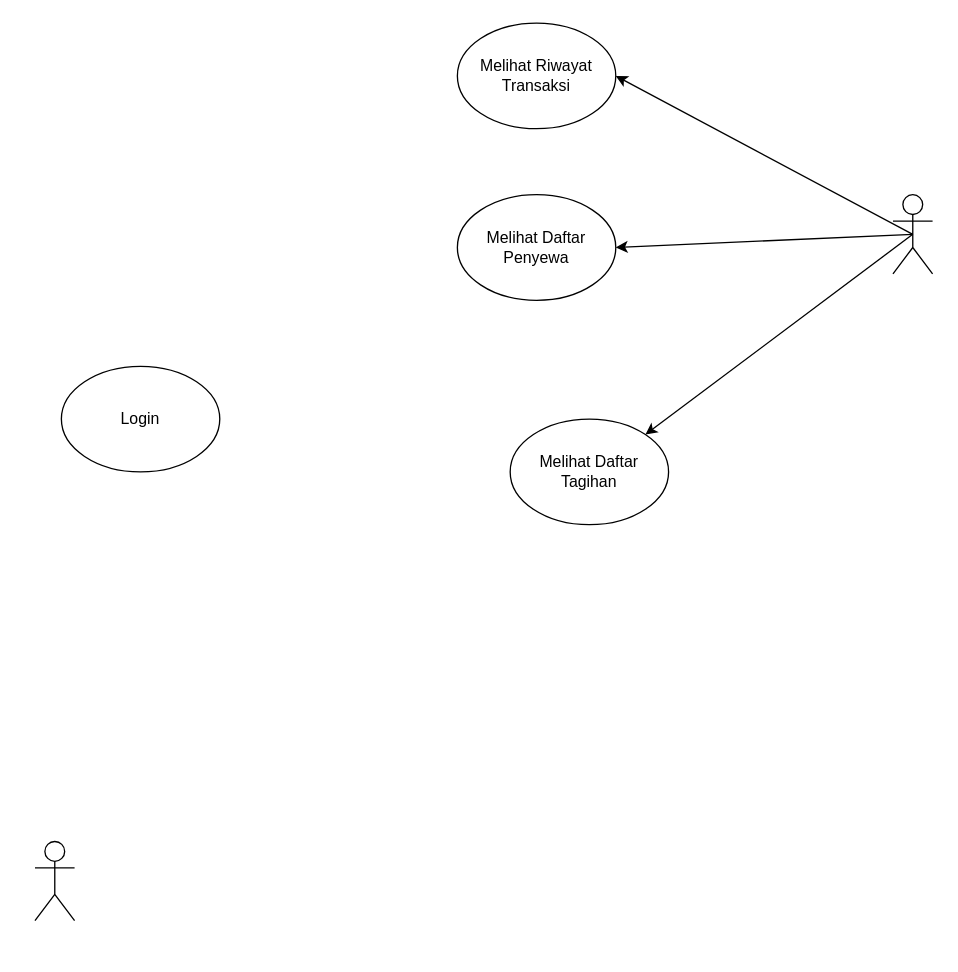
Image size: 958x972. Some labels were removed from this diagram. The shapes that lost their labels are listed below. From the top down, each one's centre as x and y in pixels, then its label:
At point 912,233: "Admin".
At point 54,880: "Penyewa".
